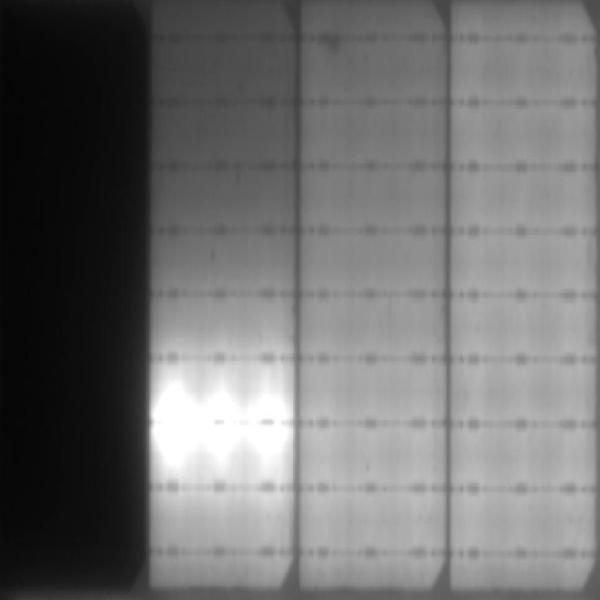hot_spot: (153, 384, 199, 473), (201, 389, 244, 480), (245, 426, 291, 468), (247, 394, 284, 422)
no_electricity: (1, 1, 147, 593)
